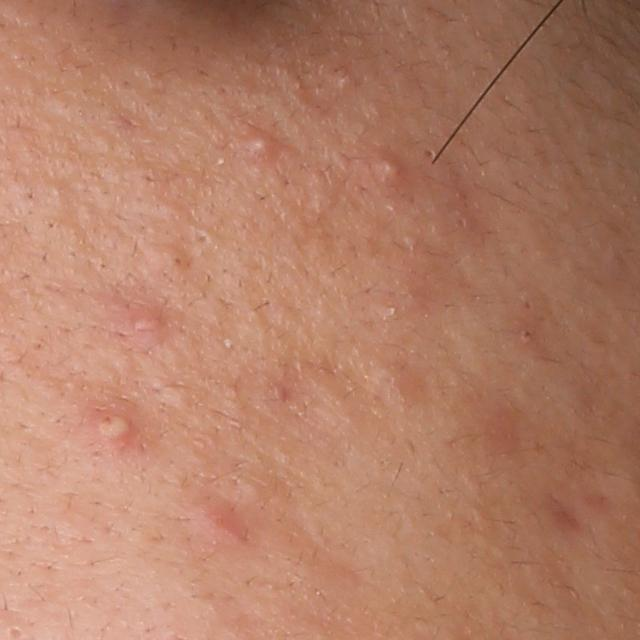comedo: (192, 229, 219, 248)
papule: (200, 508, 251, 551), (130, 310, 165, 340), (377, 154, 406, 184)
pustule: (94, 410, 136, 450)
